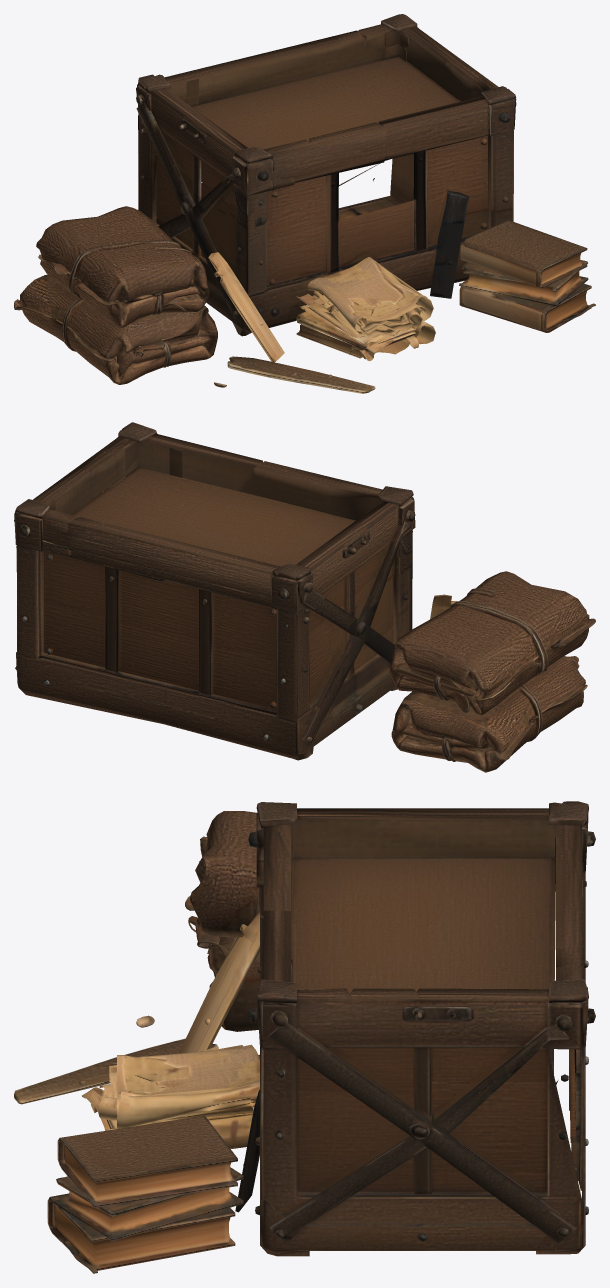
File: underdesk-storage.glb
The picture shows the model from 3 angles, top to bottom: view 1: azimuth 30°, elevation 25°; view 2: azimuth 150°, elevation 25°; view 3: azimuth 270°, elevation 25°; orthographic projection. The views are drawn at different scales.
Parts seen in each view (by area): view 1: tripo_942d820b_861f_407e_bb5b_1420fe402b44; view 2: tripo_942d820b_861f_407e_bb5b_1420fe402b44; view 3: tripo_942d820b_861f_407e_bb5b_1420fe402b44.
Boxes of the visible parts, x1,y1,x2,y2 form: tripo_942d820b_861f_407e_bb5b_1420fe402b44: [14, 14, 595, 393]; tripo_942d820b_861f_407e_bb5b_1420fe402b44: [14, 422, 595, 772]; tripo_942d820b_861f_407e_bb5b_1420fe402b44: [14, 801, 595, 1273].
Size of the model in its own units: 0.9995 by 0.3862 by 0.7485.
Materials: 1 (1 with a texture image).
